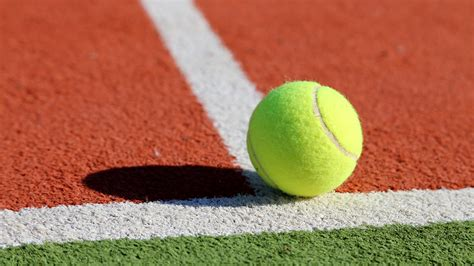tennis_ball: (246, 80, 364, 198)
